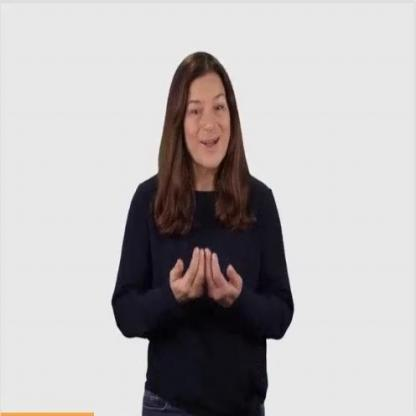HowAreYou: (161, 226, 240, 325)
